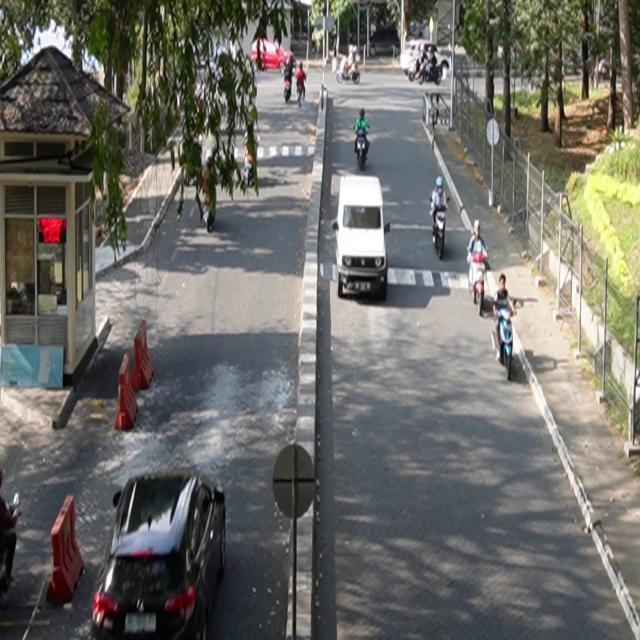car: (92, 472, 227, 640)
truck: (333, 175, 391, 301)
